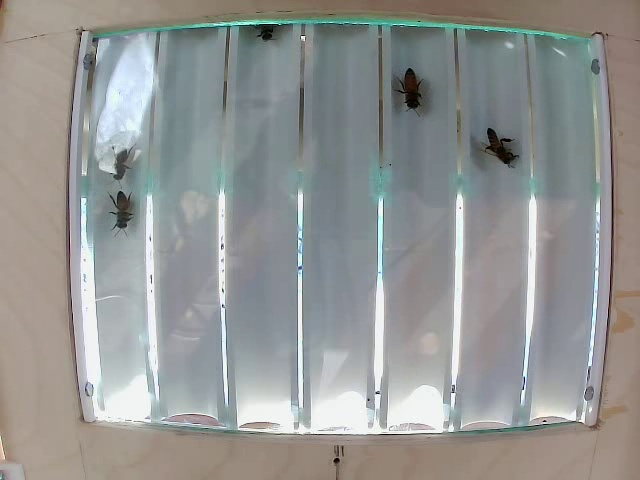bee: (104, 196, 146, 245), (484, 130, 524, 179), (397, 74, 433, 119), (93, 150, 135, 174), (253, 12, 275, 37)
